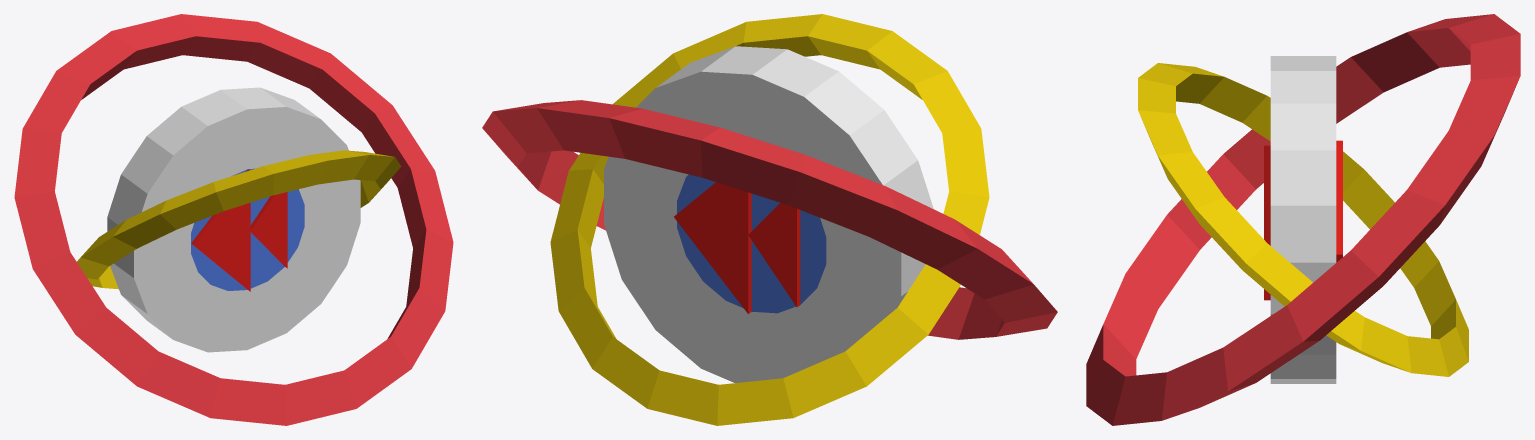
The model's file is MSH_Undo_token.fbx.
3 views of the same model, side by side, from view 1: azimuth 30°, elevation 25°; view 2: azimuth 150°, elevation 25°; view 3: azimuth 270°, elevation 25° (orthographic). The views are drawn at different scales.
Visible parts, largest first — view 1: MSH_Outer_ring, MSH_Token, MSH_Inner_ring; view 2: MSH_Token, MSH_Inner_ring, MSH_Outer_ring; view 3: MSH_Outer_ring, MSH_Inner_ring, MSH_Token.
Part boxes in pixels (x1,y1,x2,y2): MSH_Outer_ring: (14,14,453,425); MSH_Token: (107,87,360,352); MSH_Inner_ring: (77,150,401,289); MSH_Token: (604,46,933,382); MSH_Inner_ring: (550,14,989,425); MSH_Outer_ring: (482,100,1057,339); MSH_Outer_ring: (1086,14,1520,425); MSH_Inner_ring: (1138,63,1468,376); MSH_Token: (1264,56,1342,383).
Size of the model in its own units: 102 by 64.76 by 77.18.
